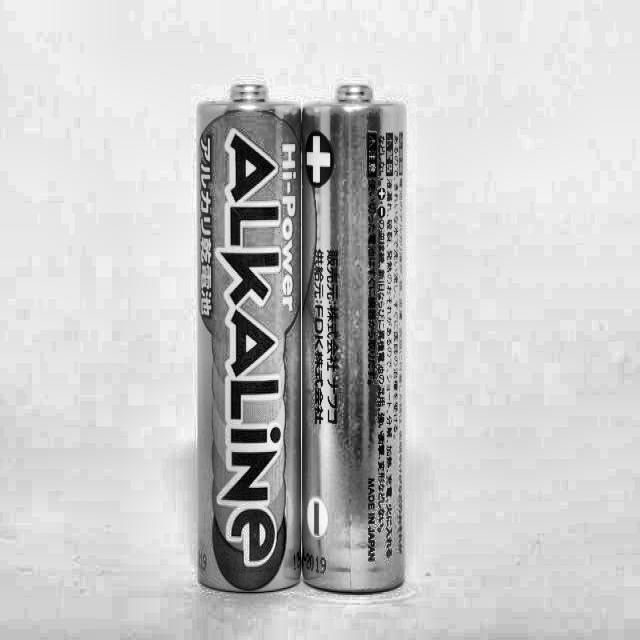drycell: (192, 78, 303, 604), (302, 81, 409, 601)
